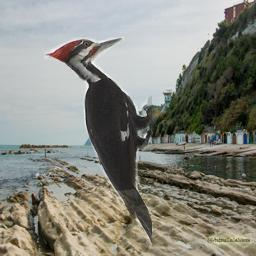Woodpecker: (44, 37, 152, 247)
